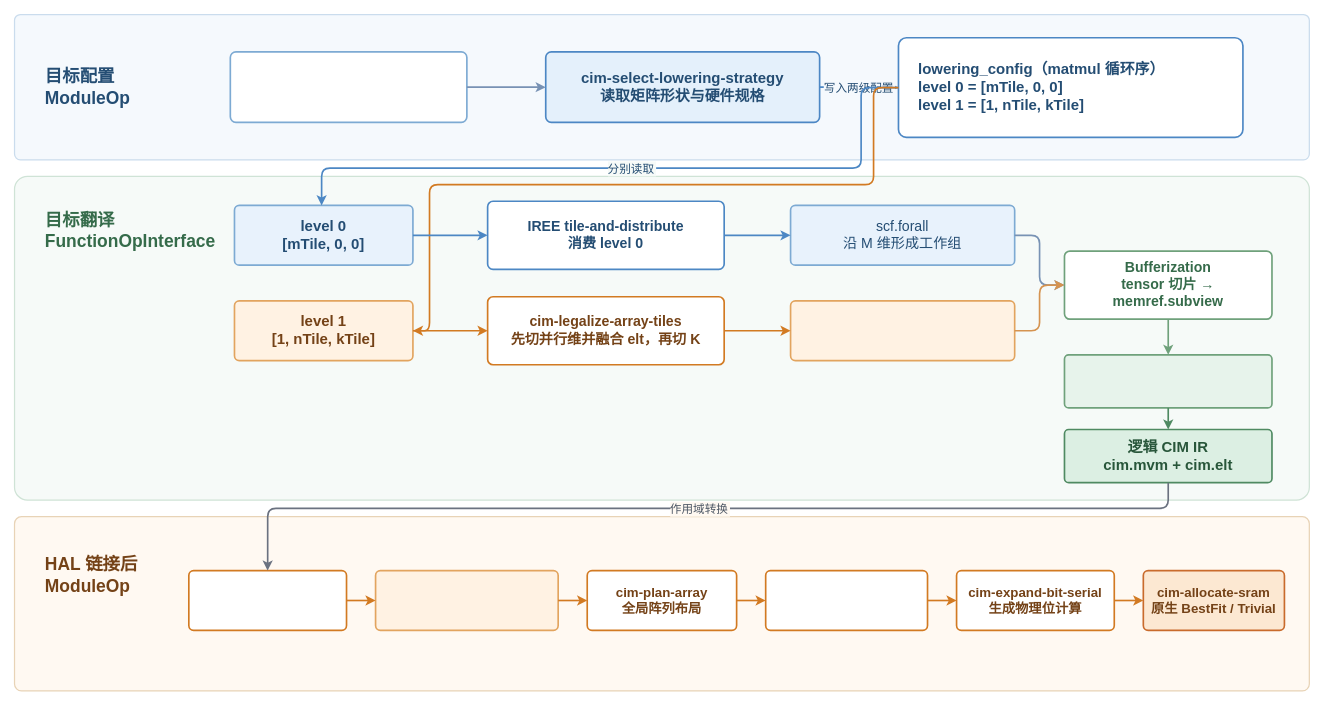
Image size: 1325x706. Some labels were removed from this diagram. The centre of each missing label's shape, as x and y in pixels:
"cim-convert-linalg-to-cim" goes at [1167,381].
"cim-link-executables 汇集全部入口" goes at [267,600].
"cim-materialize-sram 创建 SRAM 对象" goes at [846,600].
"tensor.extract_slice + scf.for 任务内结构化切片与循环" goes at [902,330].
"按配置优化 横向拼接 / 权重复制" goes at [466,600].
"结构化矩阵收缩 linalg.matmul [M,N,K]" goes at [348,87].
